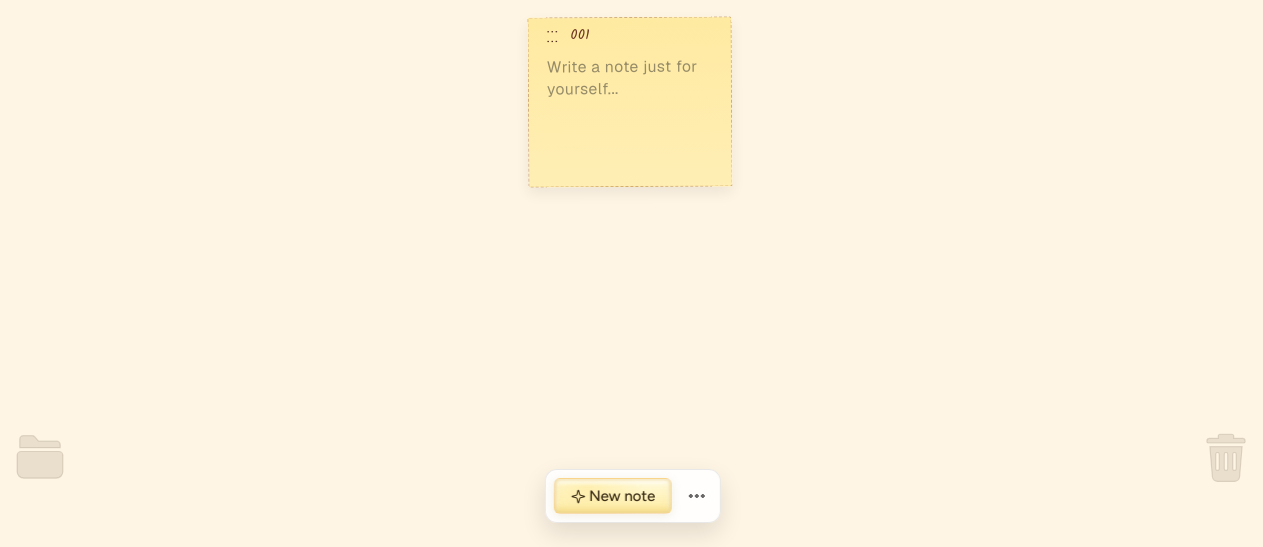
Test case: LocalNotes › keeps organize and clear inside the hover more menu
Expected: the text "Organize" is not shown
Hover over the element named "More actions": (697, 496) [682, 482, 712, 510]
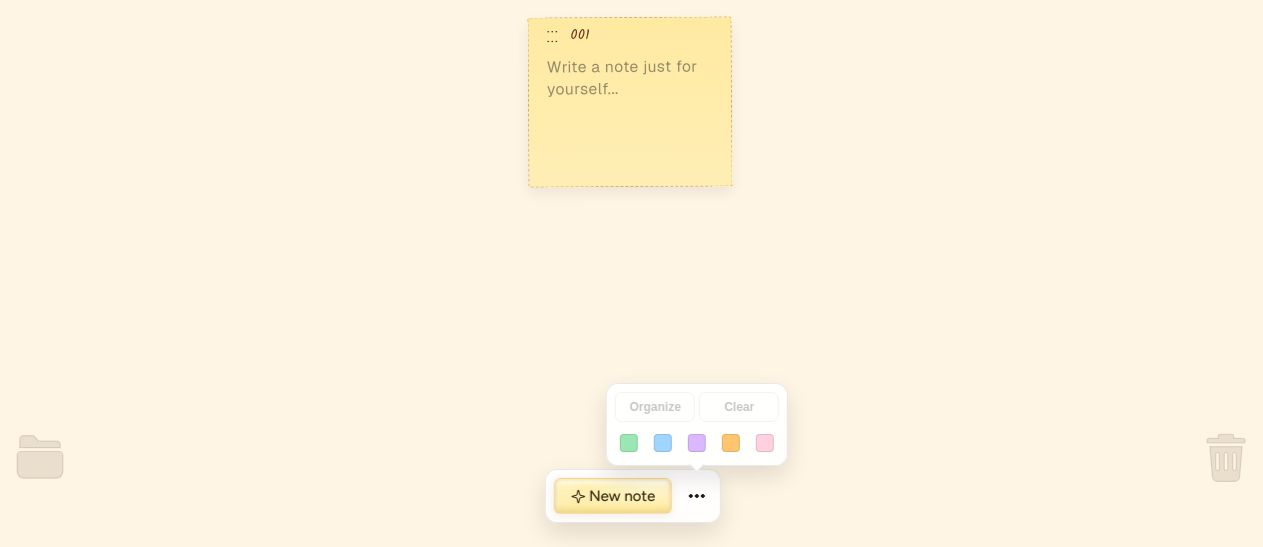
Expected: the element named "More actions options" is shown, [606, 383, 788, 466]
Expected: the button with aria-label "Organize notes" reads "Organize", [615, 392, 695, 422]
Expected: the button with aria-label "Clear all notes" reads "Clear", [699, 392, 779, 422]
